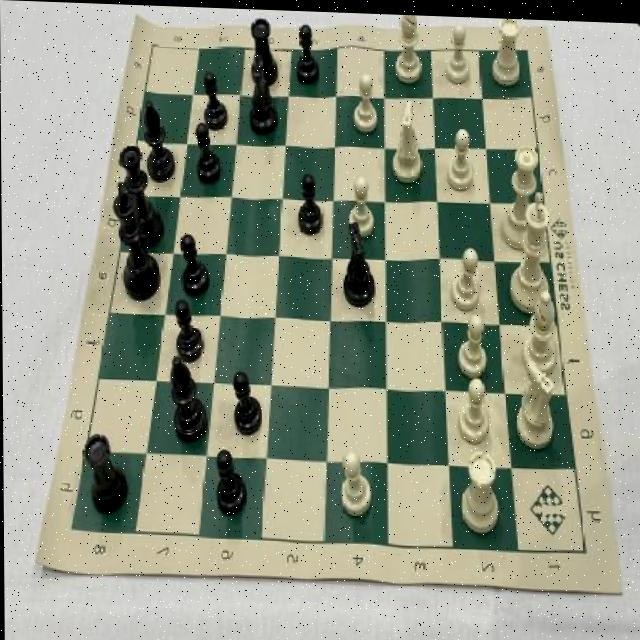bishop: (170, 353, 207, 442), (146, 96, 174, 182)
black-bishop: (112, 178, 160, 297)
black-king: (340, 218, 378, 308), (248, 49, 276, 134)
black-knight: (178, 230, 211, 298), (216, 448, 249, 516), (172, 300, 207, 363), (231, 370, 264, 436), (296, 168, 323, 235), (195, 123, 224, 184), (203, 69, 228, 133), (294, 21, 319, 83)
black-pawn: (117, 142, 158, 237)
black-queen: (82, 432, 128, 516), (250, 12, 279, 86)
black-rook: (521, 283, 561, 373), (392, 11, 424, 79)
white-bishop: (509, 187, 554, 311)
white-king: (515, 352, 558, 444), (388, 95, 425, 183)
white-knight: (340, 445, 374, 515), (457, 372, 489, 443), (447, 244, 482, 307), (456, 307, 487, 375), (447, 125, 475, 189), (444, 21, 471, 83), (347, 172, 373, 232), (353, 70, 378, 132)
white-pawn: (498, 138, 542, 247)
white-queen: (461, 444, 500, 531), (491, 14, 525, 83)
